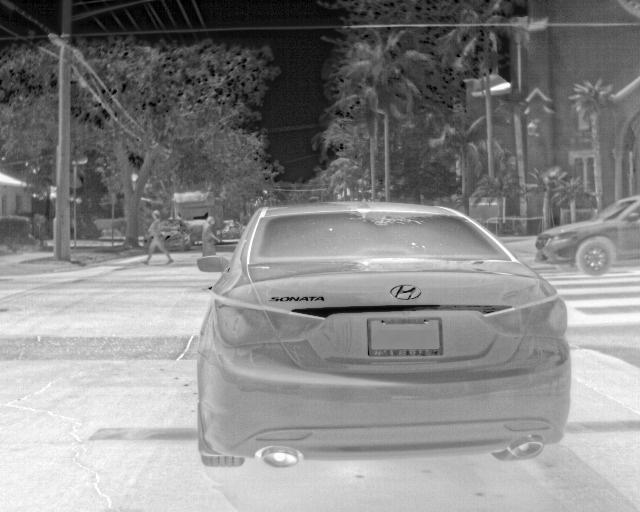bicycle: (196, 201, 571, 465), (534, 195, 639, 275), (160, 220, 190, 254)
empty: (139, 208, 176, 266), (198, 214, 222, 256)
